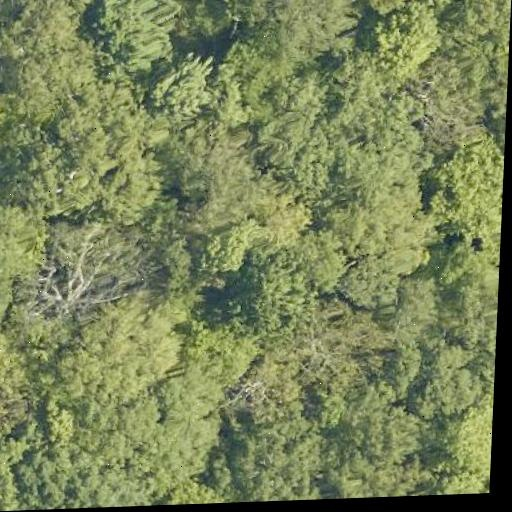tree-top: (26, 309, 218, 510), (25, 82, 165, 225), (329, 130, 433, 282), (49, 226, 195, 313), (324, 396, 426, 499), (169, 120, 262, 231), (228, 403, 332, 502), (0, 0, 91, 113), (278, 293, 382, 389), (227, 0, 366, 64), (430, 132, 505, 250), (401, 55, 491, 150), (254, 114, 351, 202), (239, 240, 337, 323), (431, 373, 495, 495), (207, 36, 288, 125), (367, 0, 445, 82), (439, 259, 500, 361), (94, 0, 176, 70), (146, 43, 219, 118), (453, 0, 512, 84), (0, 199, 55, 286), (0, 341, 28, 446), (0, 444, 26, 512)
